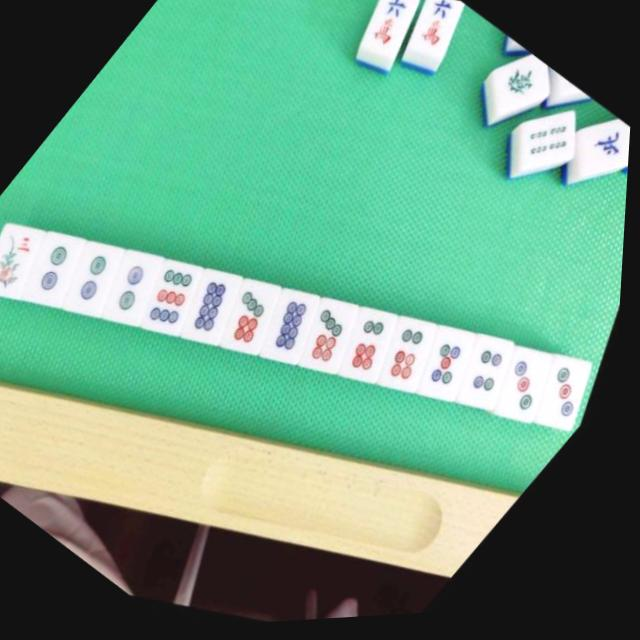bs3: (0, 209, 73, 317)
sd2: (50, 233, 147, 331), (89, 243, 184, 339), (12, 222, 106, 318)
sd3: (517, 349, 620, 455), (478, 340, 581, 446)
sd4: (438, 327, 541, 432)
sd5: (400, 318, 503, 423)
sd6: (323, 299, 425, 403), (362, 310, 464, 413)
sd7: (206, 268, 308, 374), (285, 291, 386, 393)
sd8: (246, 279, 348, 383), (168, 260, 267, 361)
sd9: (126, 248, 228, 354)
